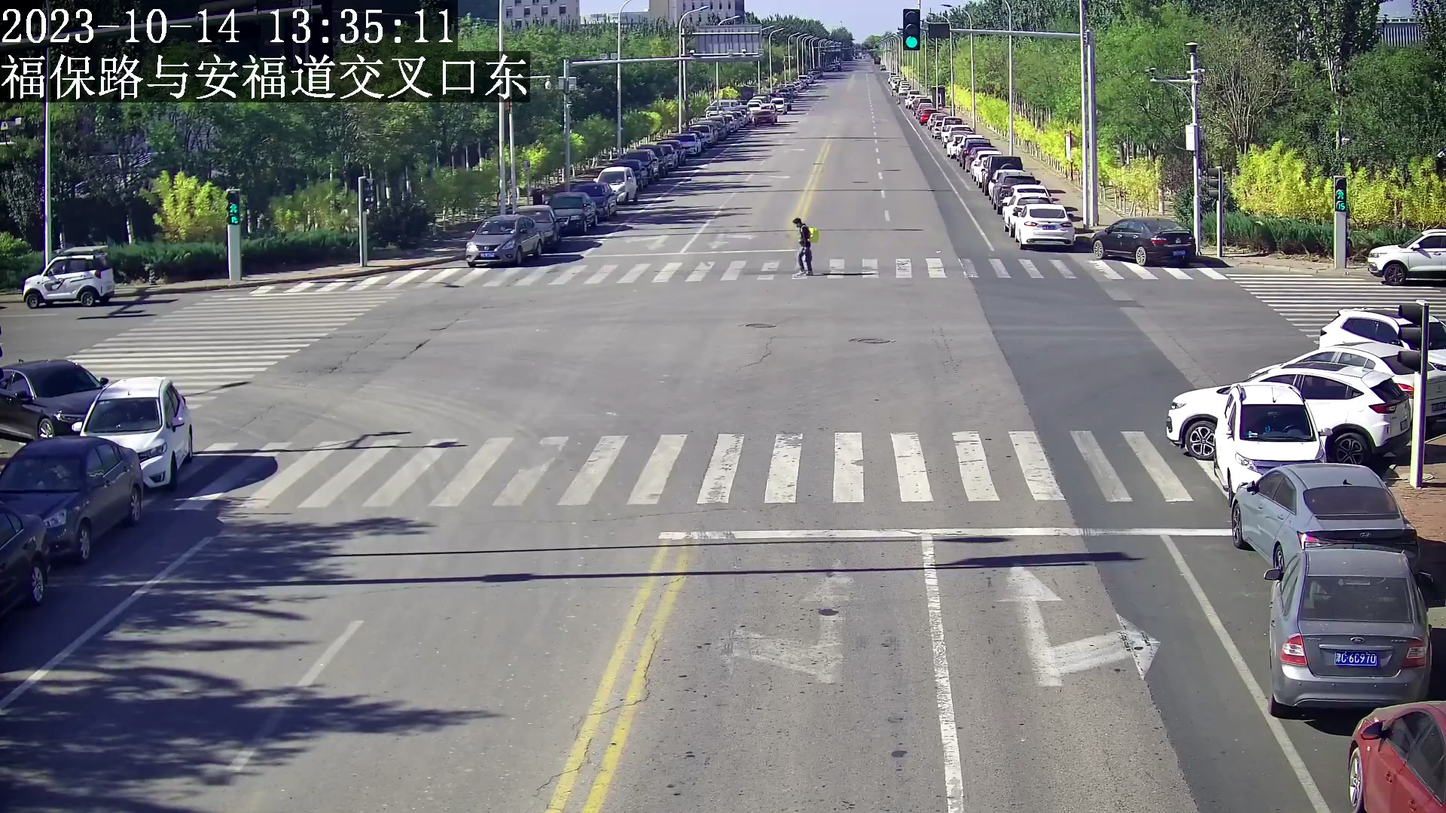person: (789, 216, 816, 277)
vehicle: (1261, 544, 1426, 705), (1164, 361, 1405, 462), (0, 434, 142, 567), (1224, 467, 1418, 554), (76, 374, 194, 489), (1219, 380, 1330, 480), (1348, 698, 1445, 811), (2, 349, 105, 443), (22, 241, 118, 309), (1090, 212, 1194, 265), (1365, 227, 1446, 280), (462, 212, 538, 265), (1014, 201, 1072, 249)
